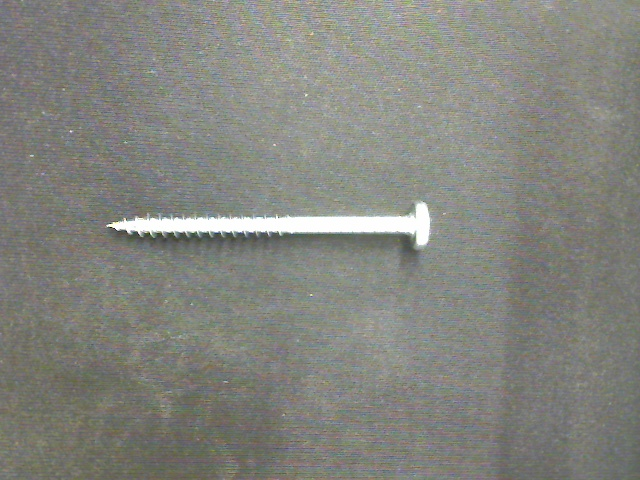Screw: (107, 201, 431, 252)
